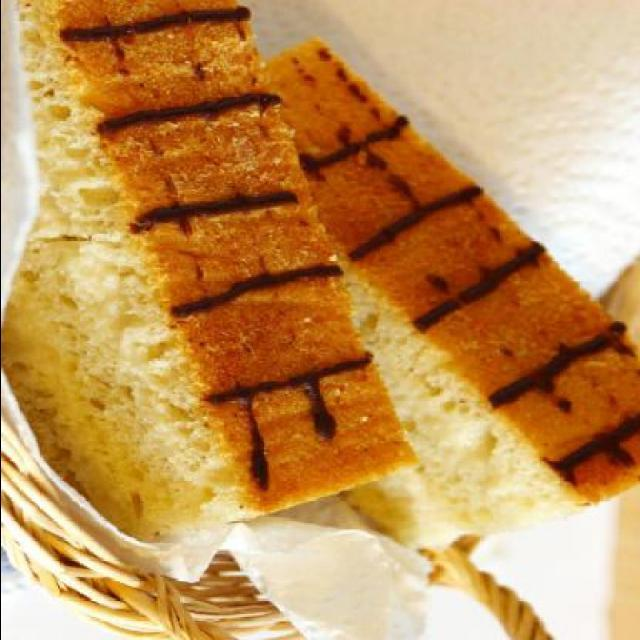Merendine packaged: (1, 2, 419, 550), (261, 36, 639, 528)
